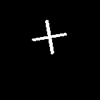single_crochet: (32, 20, 66, 53)
